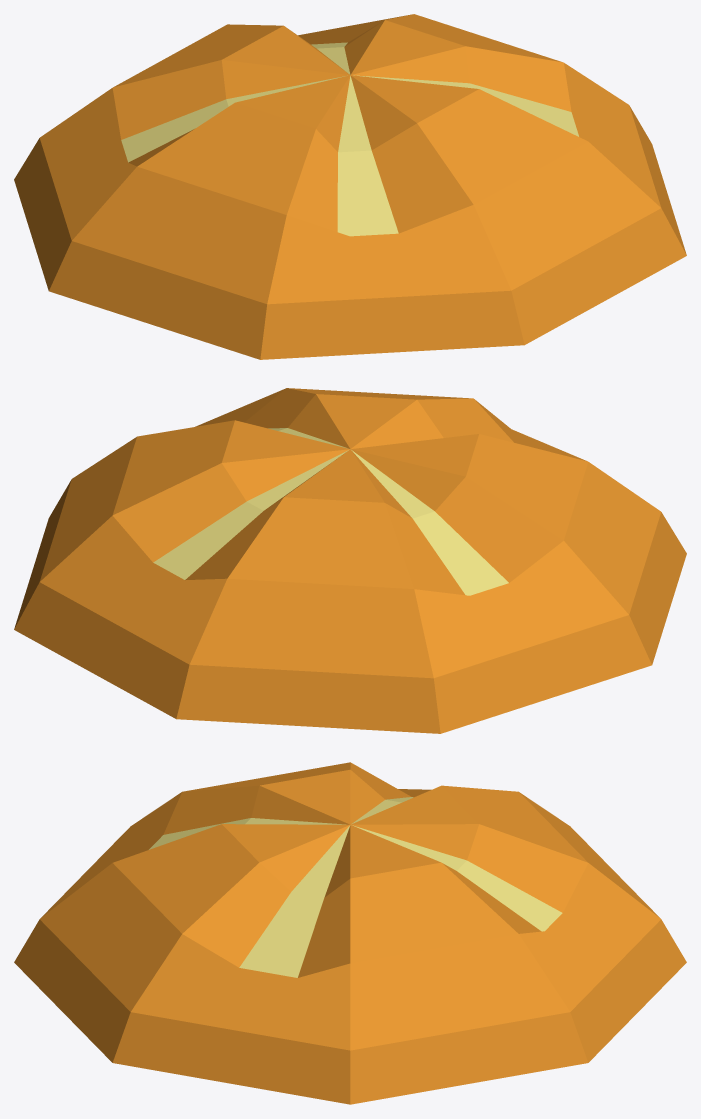
Rendered from Bread.fbx.
The picture shows the model from 3 angles, top to bottom: view 1: azimuth 30°, elevation 25°; view 2: azimuth 150°, elevation 25°; view 3: azimuth 270°, elevation 25°; orthographic projection. The views are drawn at different scales.
Visible parts, largest first — view 1: Bread; view 2: Bread; view 3: Bread.
Boxes of the visible parts, x1=… form: Bread: x1=14, y1=14, x2=686, y2=359; Bread: x1=14, y1=388, x2=686, y2=733; Bread: x1=14, y1=762, x2=686, y2=1104.
Size of the model in its own units: 200 by 45.38 by 200.
